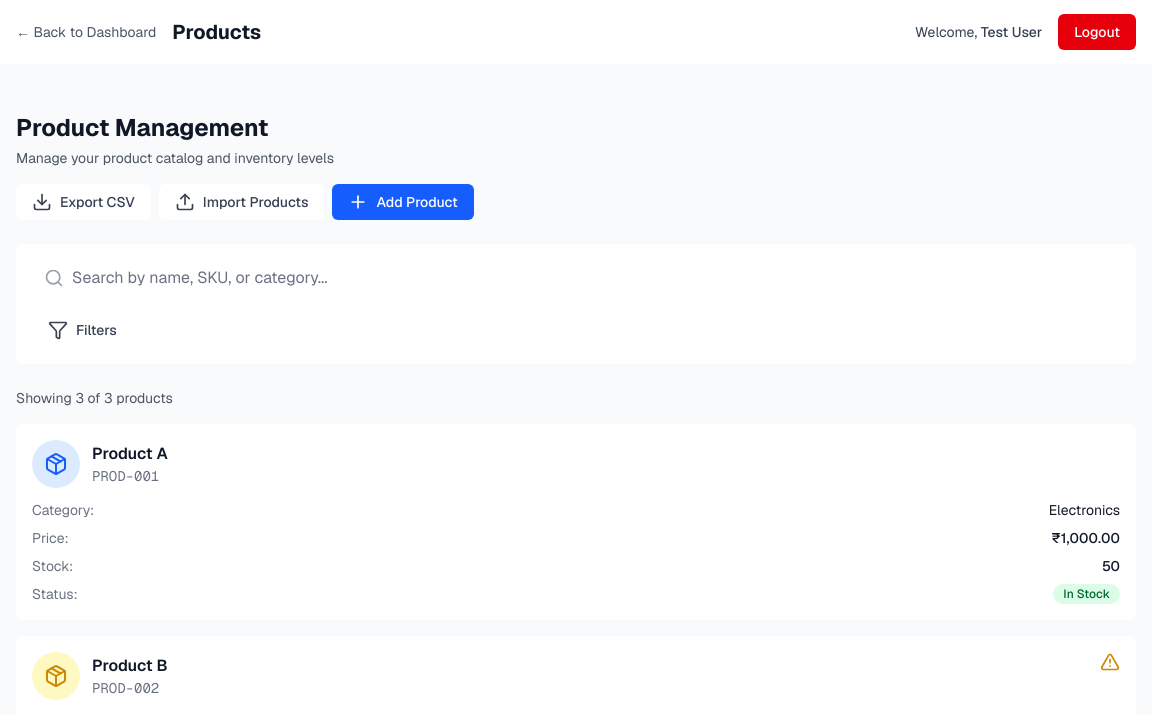
Test: ProductsPage › Filter Functionality › should show filters panel when filter button clicked
Click the button with aria-label "Toggle filters". click: (96, 330)
box: [32,312,1120,348]
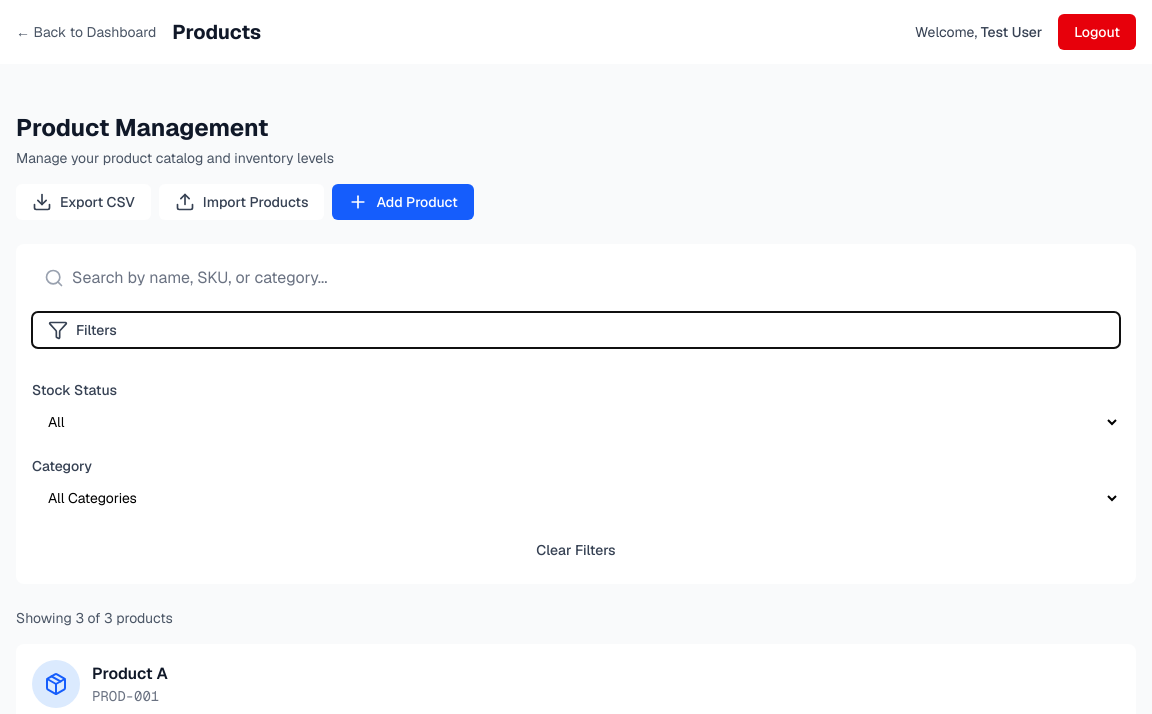
Expected: the dropdown labelled "Stock Status" is shown, [32,404,1120,440]
Expected: the dropdown labelled "Category" is shown, [32,480,1120,516]
